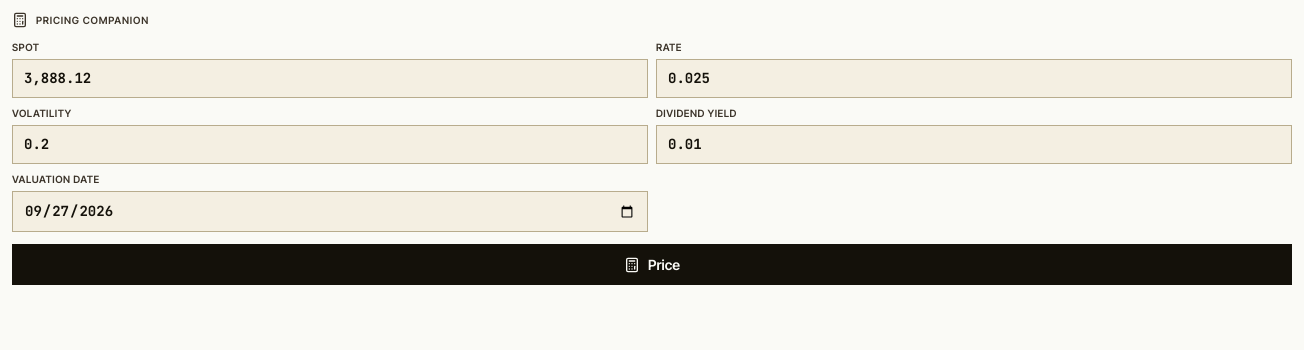
it: BookingPricingCompanion › shows the error when pricing fails
Expected: the field labelled "Spot" is shown, [12,59,648,98]
What coordinates should you click on to do the following:
click the button "Price"
I would click on:
 (652, 264)
Its box is [12,244,1292,285].
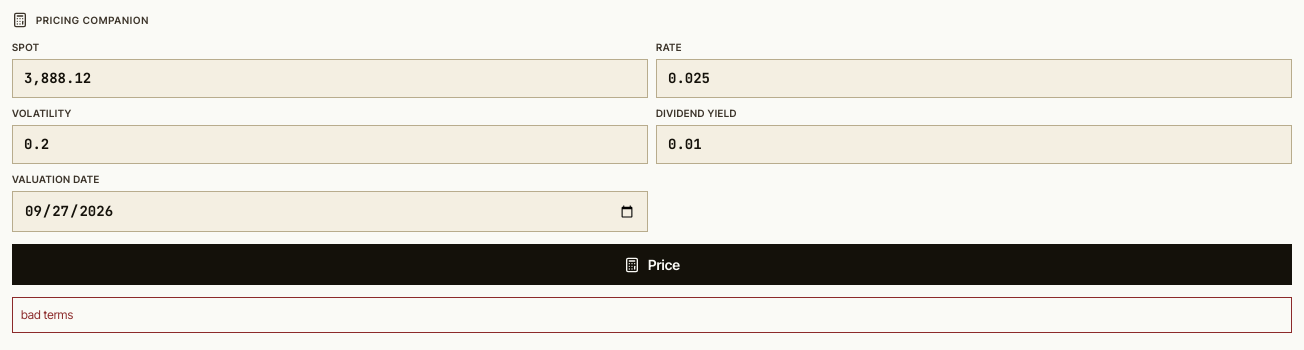
Expected: the message reads "bad terms", [21,307,73,322]
